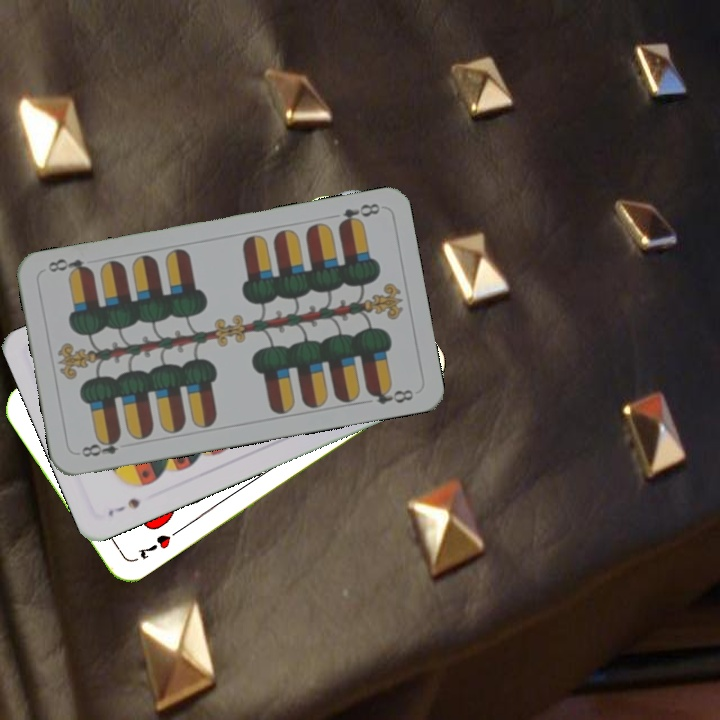E8: (334, 199, 383, 230), (74, 432, 123, 460)
H7: (134, 530, 174, 562)
S7: (104, 494, 143, 519)
